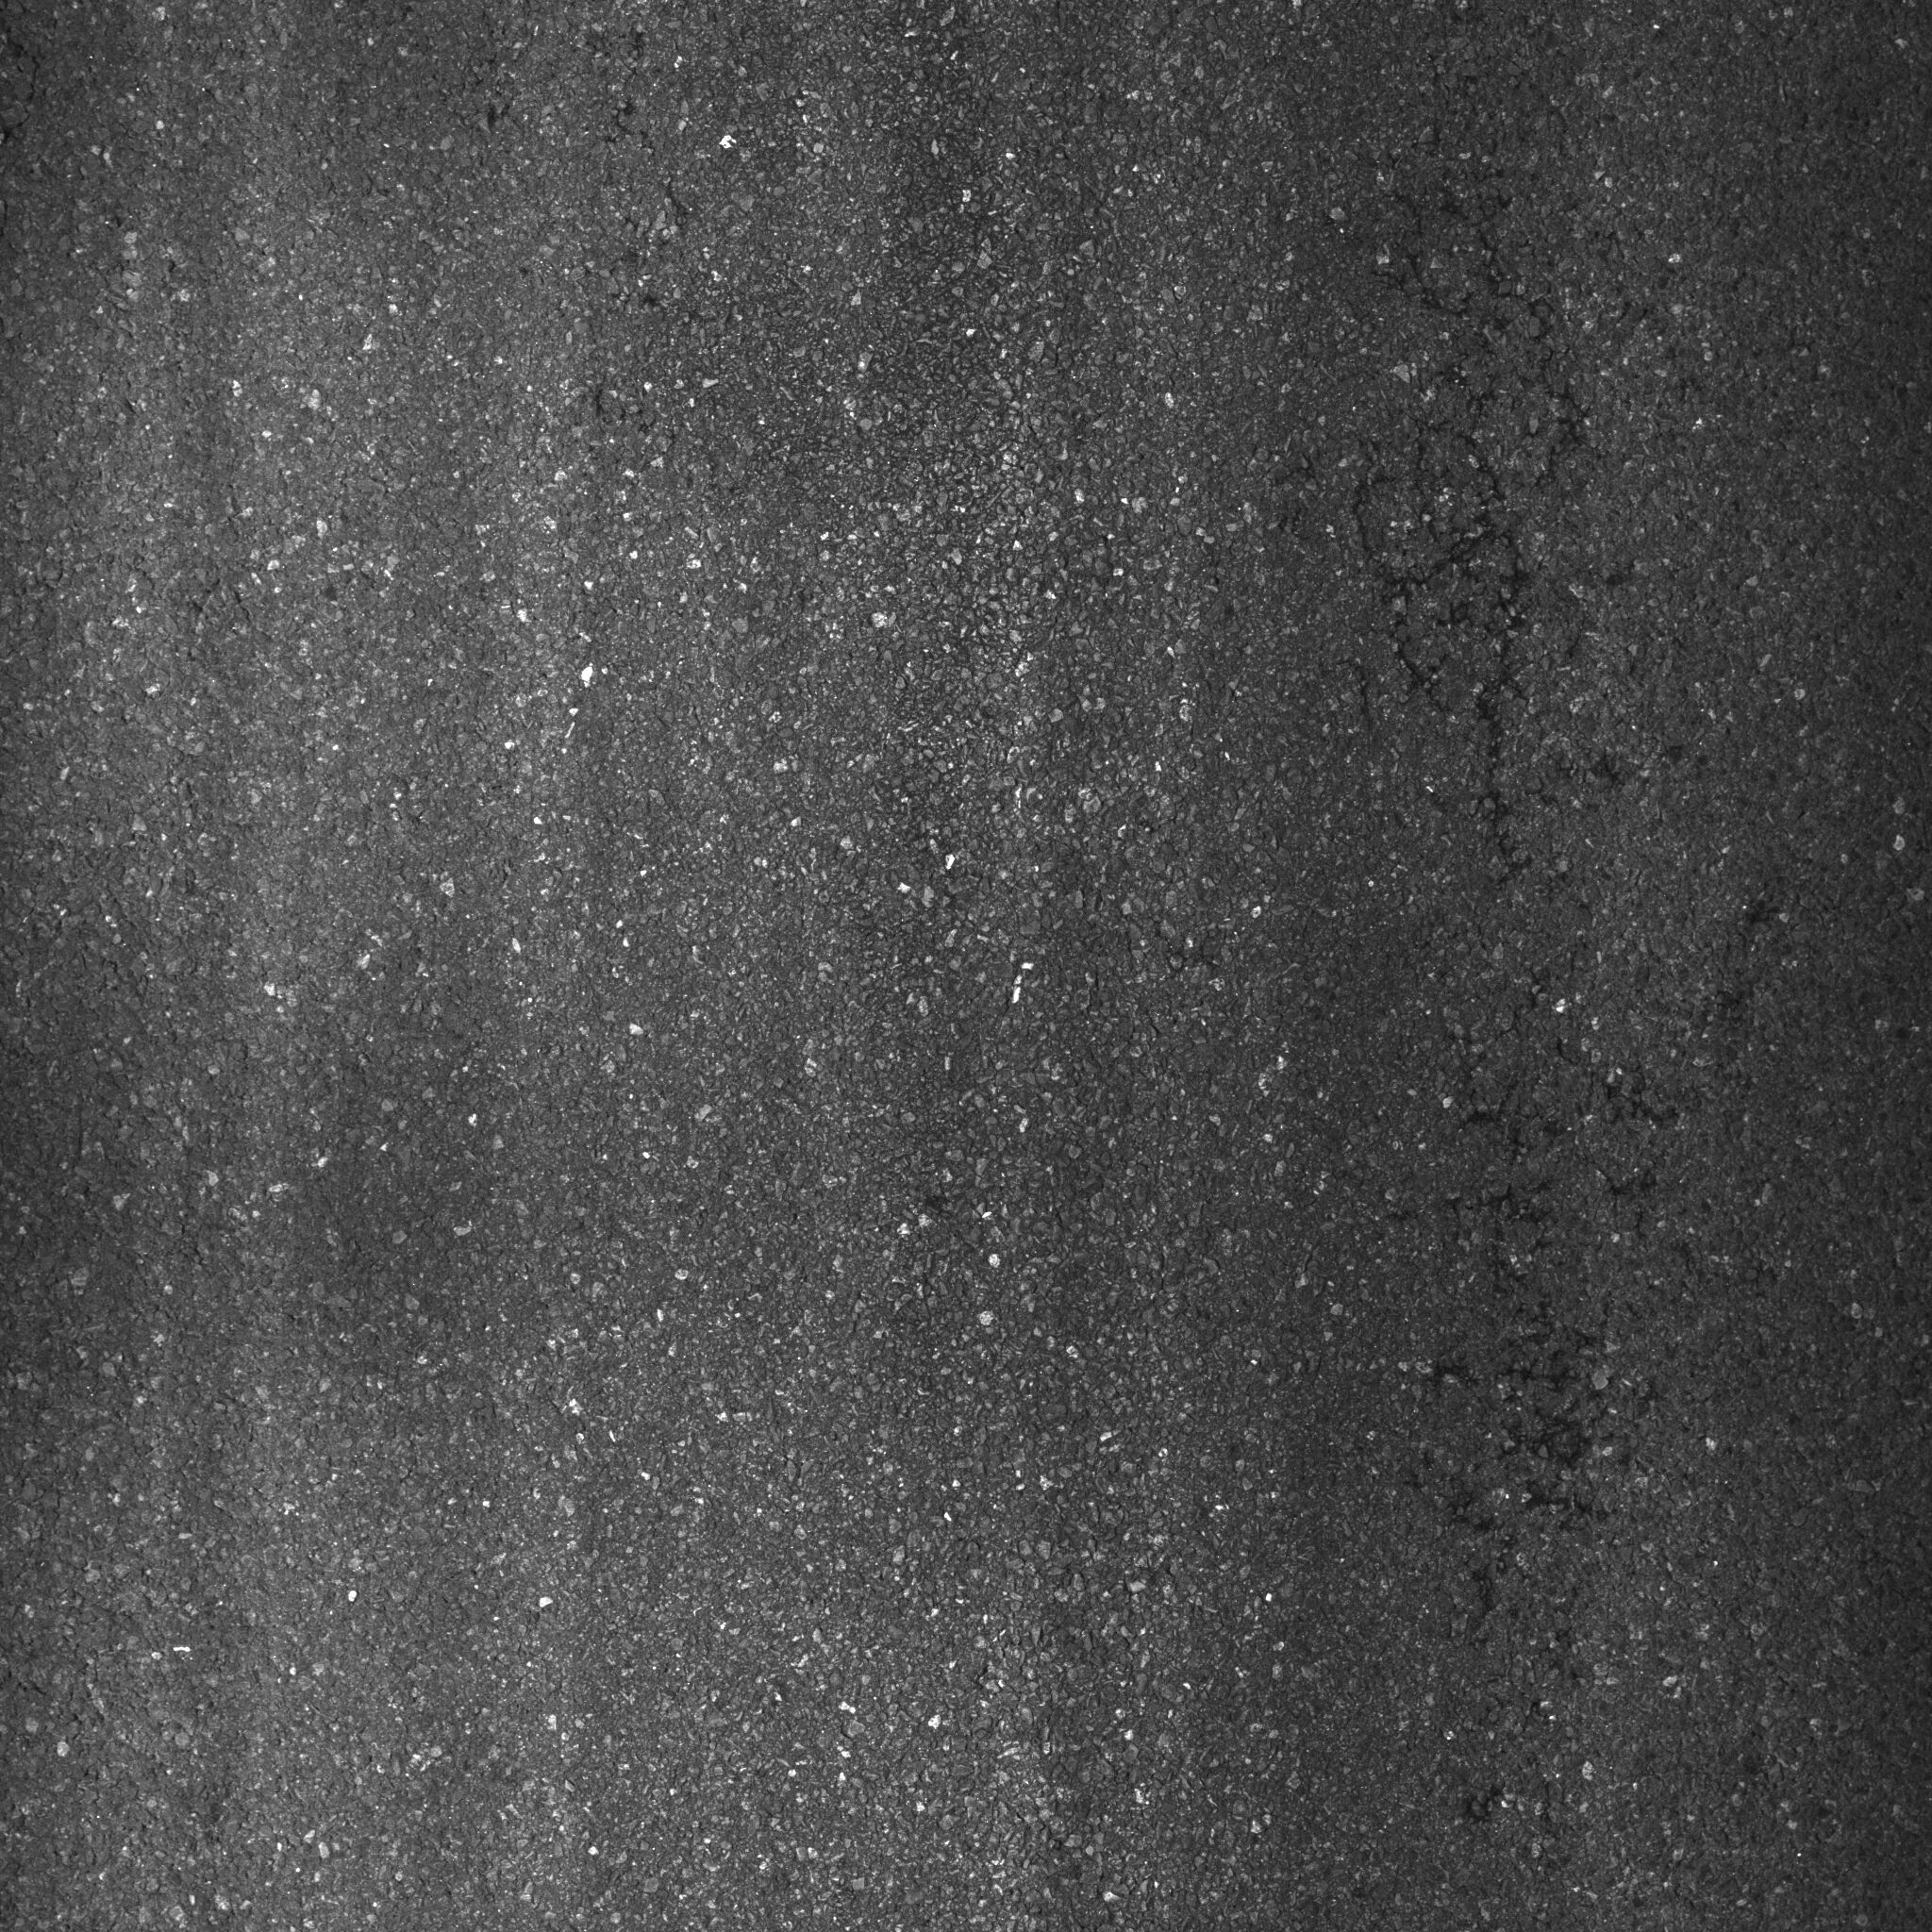alligator: (1219, 4, 1796, 1782)
